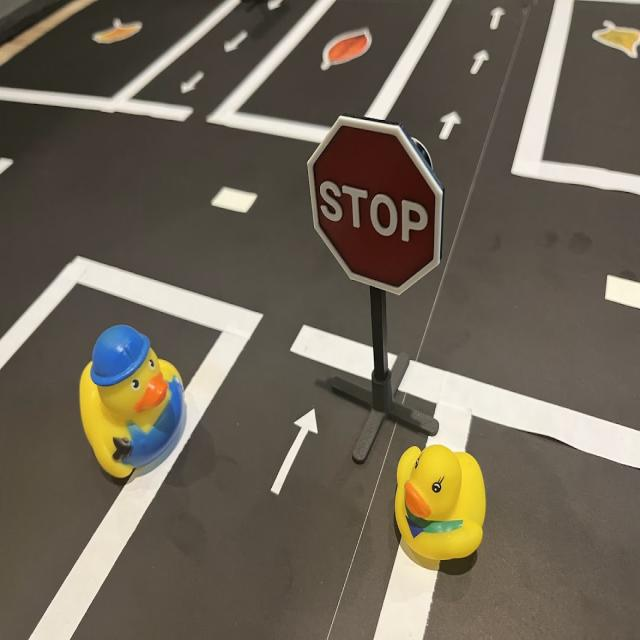duck_regular: (393, 441, 489, 565)
duck_specialty: (78, 320, 188, 484)
road_oneway: (265, 404, 330, 501), (176, 63, 212, 99), (220, 23, 255, 60), (434, 107, 467, 143), (468, 45, 497, 79), (487, 4, 508, 31)
sign_stop: (309, 116, 445, 294)
